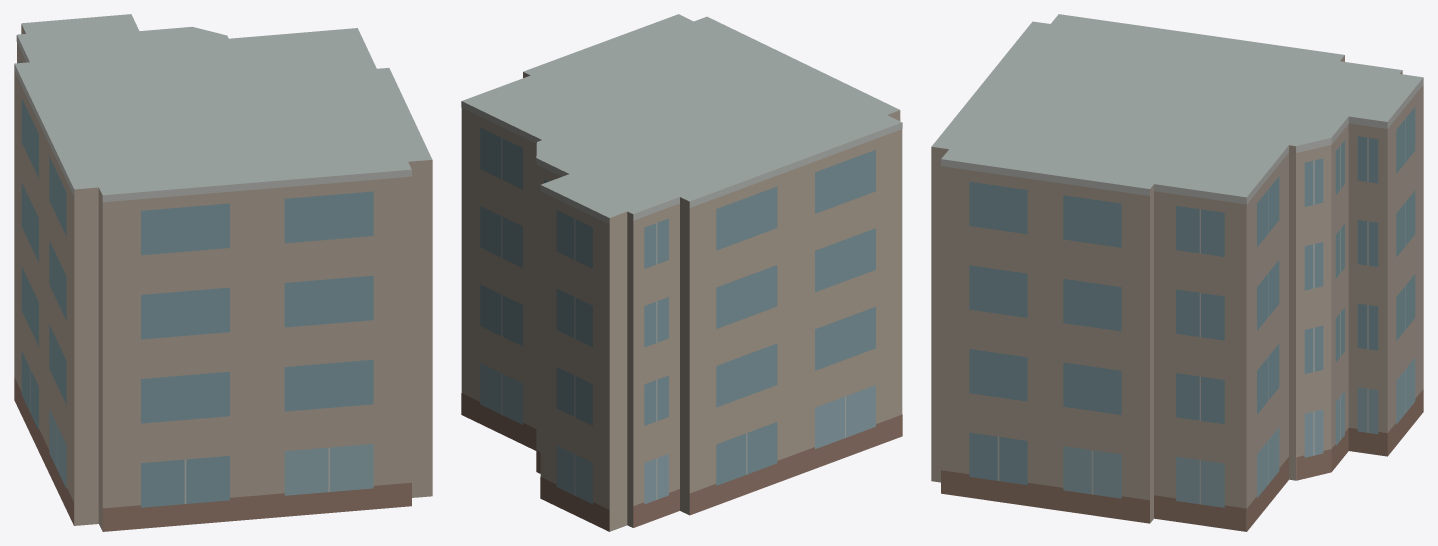
Rendered from survey-upis-32978495.glb.
3 renders of one model, left to right at view 1: azimuth 30°, elevation 25°; view 2: azimuth 150°, elevation 25°; view 3: azimuth 270°, elevation 25°, orthographic. The views are drawn at different scales.
Parts seen in each view (by area): view 1: survey-upis-32978495.tmp; view 2: survey-upis-32978495.tmp; view 3: survey-upis-32978495.tmp.
Boxes of the visible parts, bbox=[...] form: survey-upis-32978495.tmp: bbox=[14, 14, 432, 531]; survey-upis-32978495.tmp: bbox=[461, 14, 902, 531]; survey-upis-32978495.tmp: bbox=[931, 14, 1423, 531].
Bounding box in the file's own units: 13.79 × 11.72 × 15.64.
